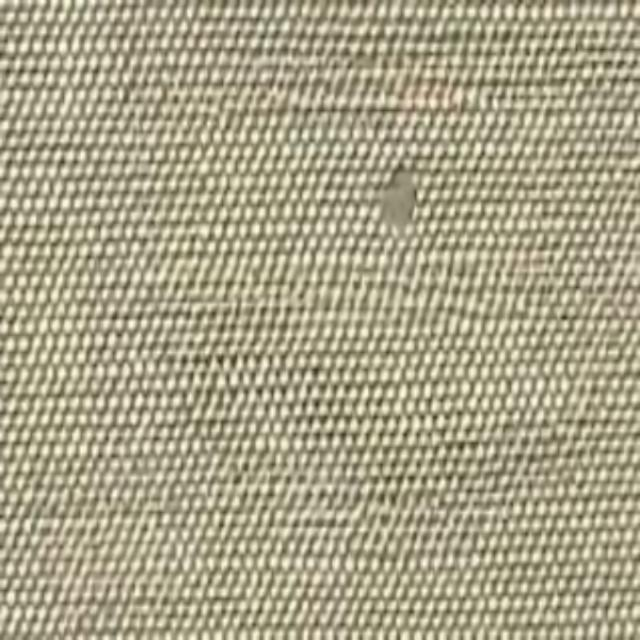other: (364, 150, 430, 240)
